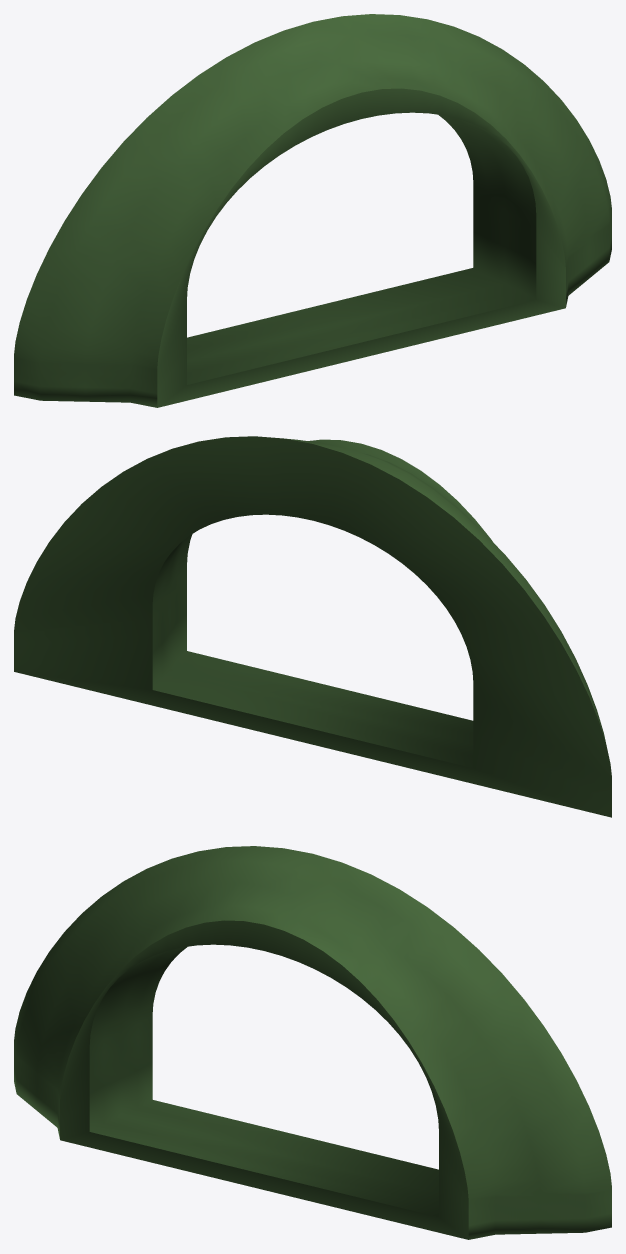
The model's file is portal_entry_terrain.glb.
3 renders of one model, top to bottom at view 1: azimuth 30°, elevation 25°; view 2: azimuth 150°, elevation 25°; view 3: azimuth 330°, elevation 25°, orthographic.
Parts seen in each view (by area): view 1: TerrainRoof; view 2: TerrainRoof; view 3: TerrainRoof.
Part boxes in pixels (x1,y1,x2,y2): TerrainRoof: [14, 14, 611, 407]; TerrainRoof: [14, 436, 611, 817]; TerrainRoof: [14, 846, 611, 1239].
Size of the model in its own units: 28.4 by 13.65 by 4.
